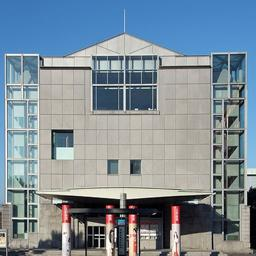building: (3, 23, 249, 249)
